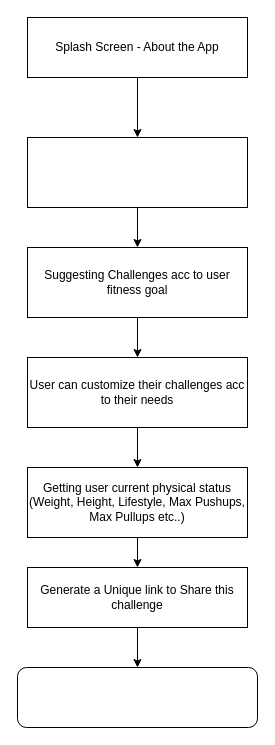
The diagram is 275 pixels wide and 745 high, and some of its shapes have lost their labels. Here are the shapes that lost their labels. From the top down, the box of each, then its label:
(26, 136, 248, 208): Getting user details to suggest better challenges to take
(16, 666, 258, 728): Home Page
